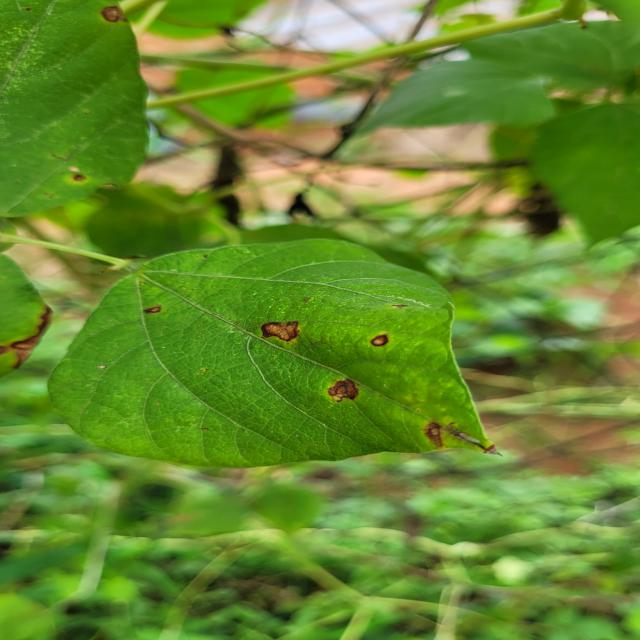Dolicos bean_cercospora leaf spot: (40, 232, 517, 472)
Dolicos bean_healthy: (356, 29, 569, 147), (544, 88, 640, 266)
